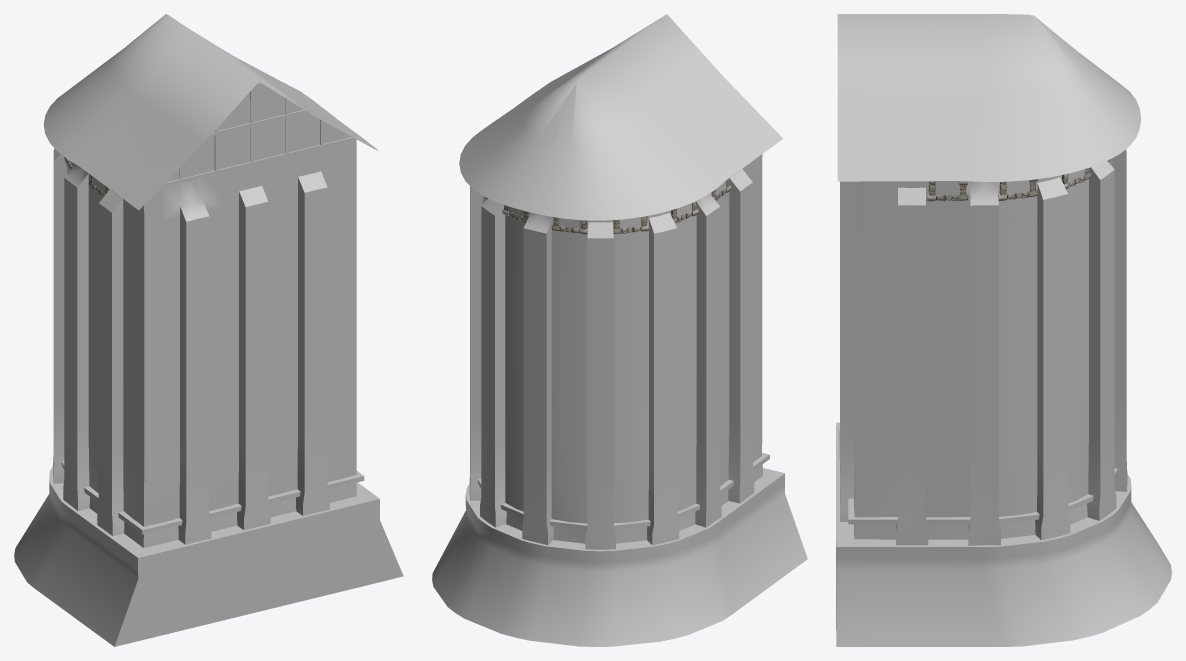
The model's file is towerLod1.FBX.
The picture shows the model from 3 angles, left to right: view 1: azimuth 30°, elevation 25°; view 2: azimuth 150°, elevation 25°; view 3: azimuth 270°, elevation 25°; orthographic projection. The views are drawn at different scales.
Parts seen in each view (by area): view 1: towerLod001; view 2: towerLod001; view 3: towerLod001.
Part boxes in pixels (<box>): towerLod001: <box>14,14,403,646</box>; towerLod001: <box>432,14,807,646</box>; towerLod001: <box>836,14,1171,646</box>.
Size of the model in its own units: 3878 by 3695 by 6785.
